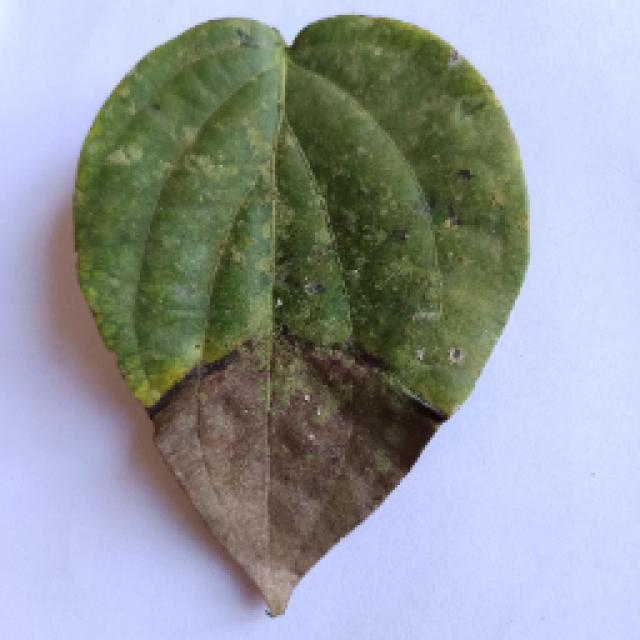footrot: (75, 15, 525, 610)
